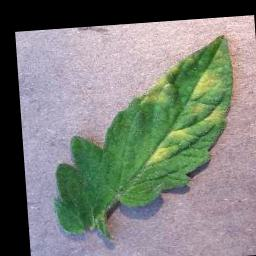Leaf_Mold: (132, 58, 185, 105), (143, 126, 196, 163), (186, 67, 225, 103), (186, 100, 227, 125)
